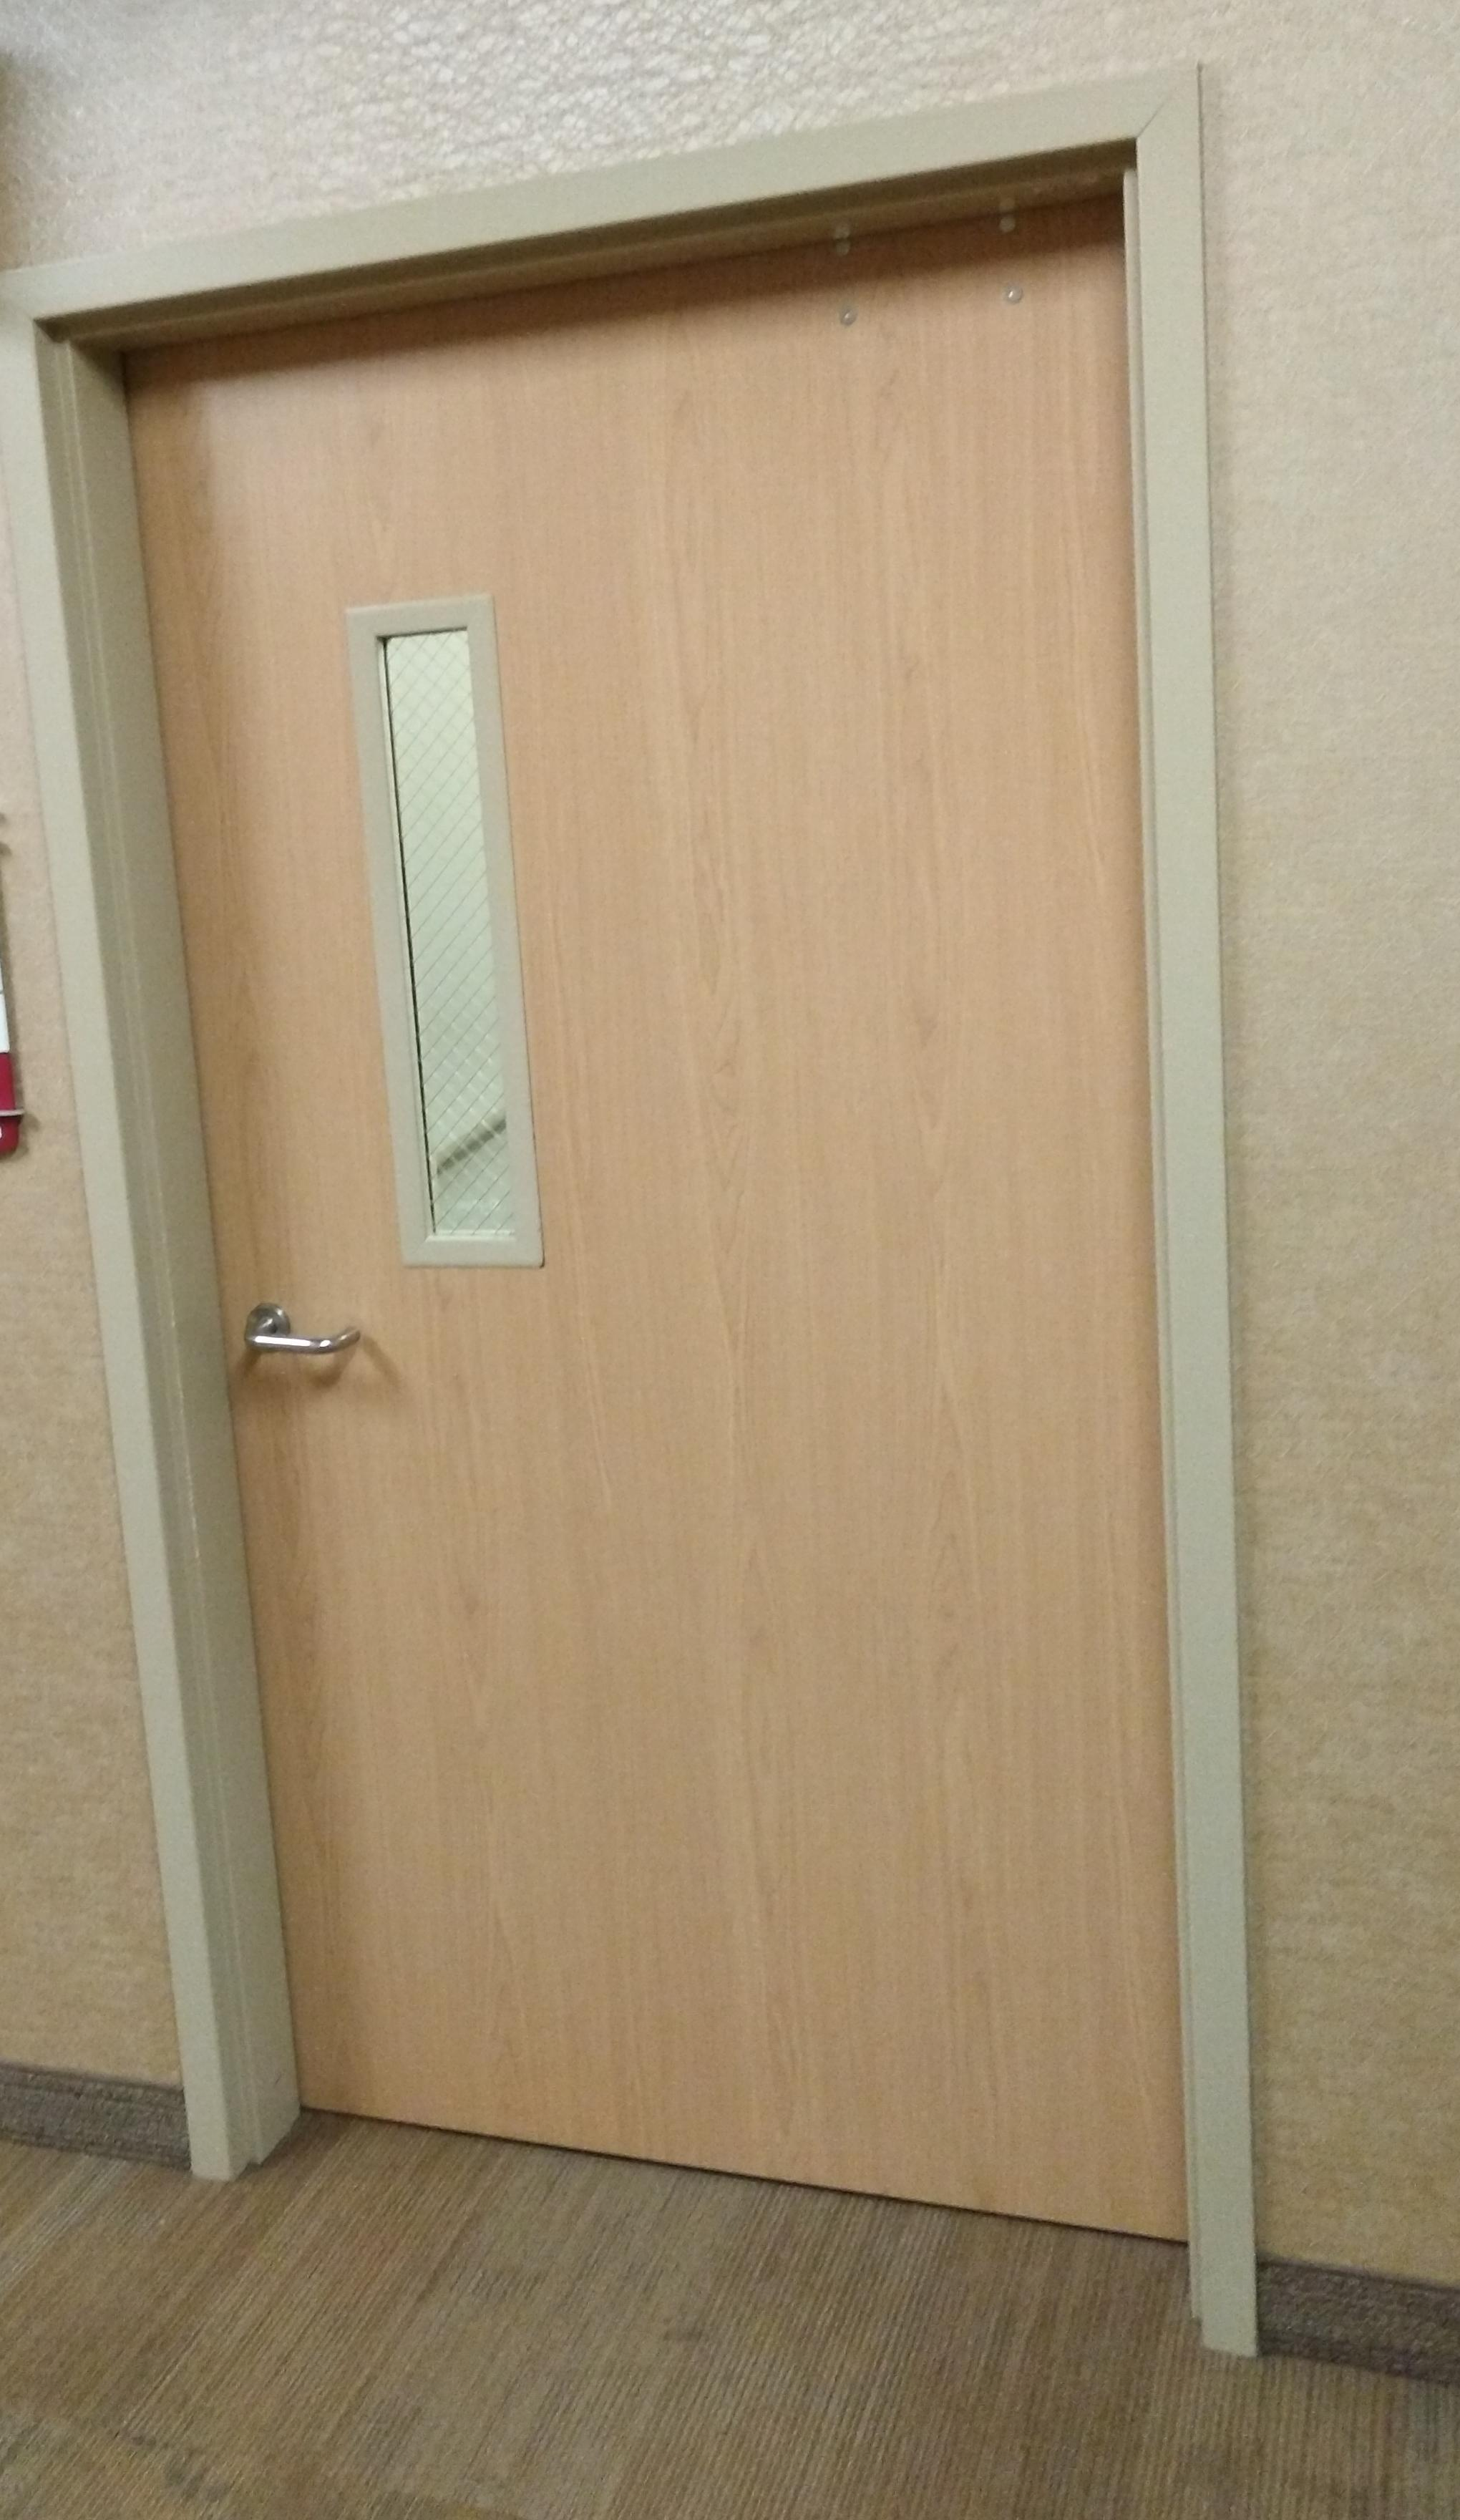door: (242, 386, 1184, 2230)
handle: (242, 1291, 356, 1415)
